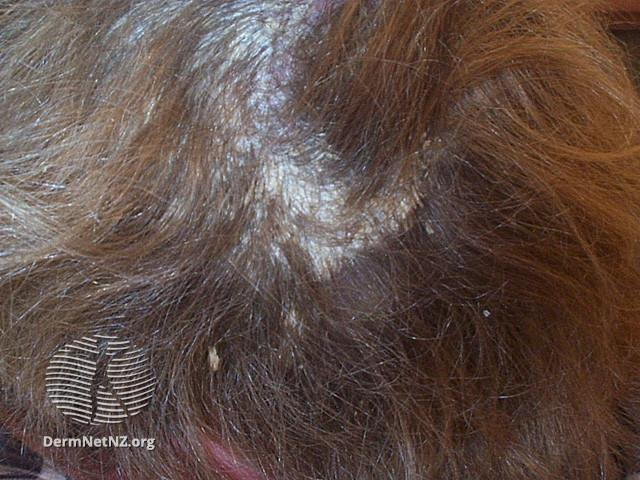Psoriasis: (181, 3, 414, 302)
